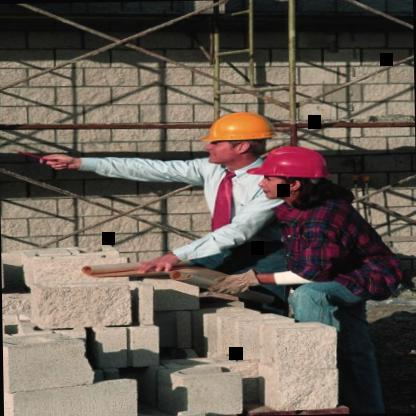helmet: (249, 145, 338, 211), (190, 110, 273, 166)
